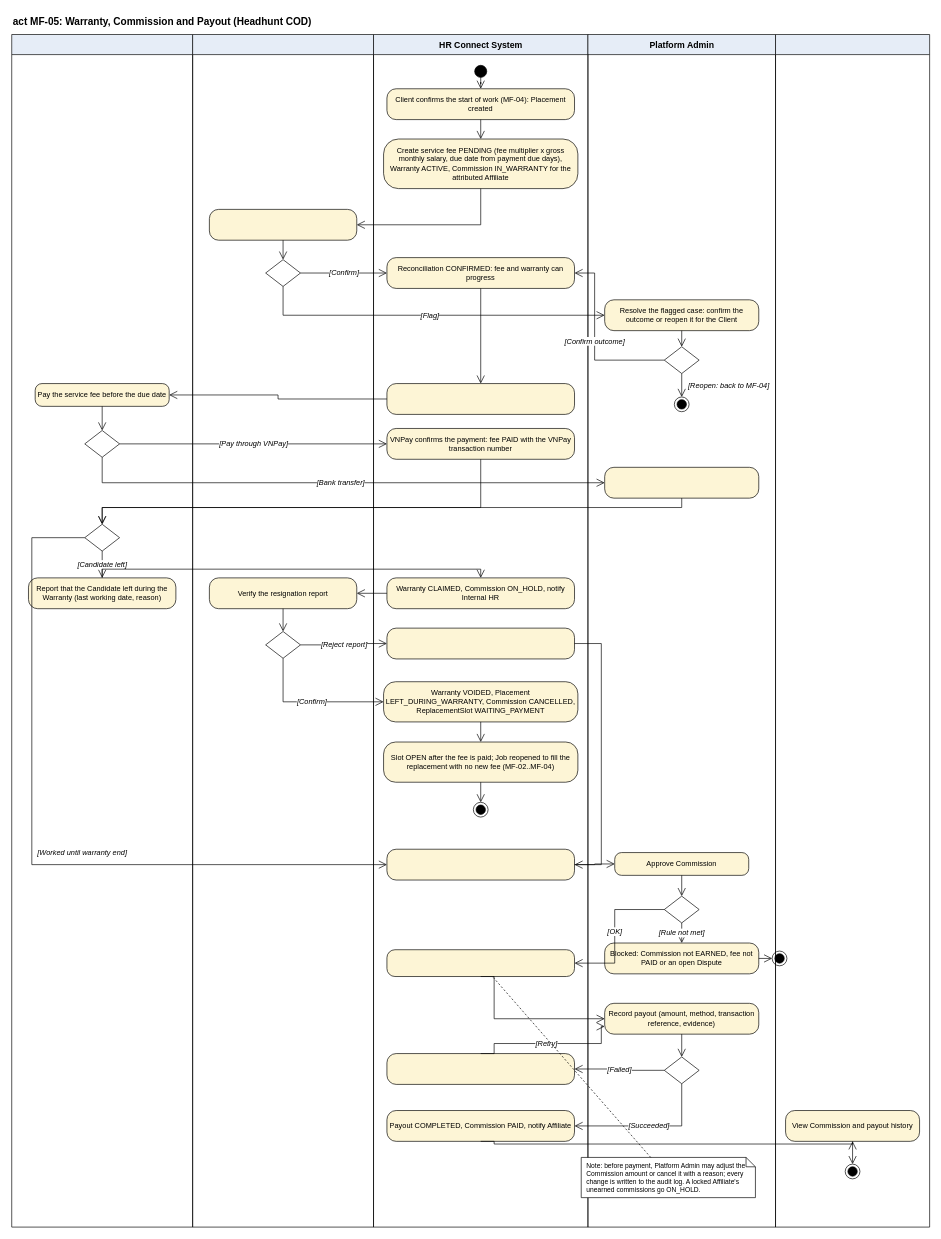
Image size: 941x1239. Some labels were removed from this diagram. Each missing label, with the box of its shape:
Affiliate: (775, 34, 930, 1227)
Check the bank statement and record the fee payment with reference (fee PAID): (604, 467, 759, 498)
Client Company User: (11, 34, 193, 1227)
Commission PAYABLE, notify Affiliate: (386, 949, 575, 977)
Internal HR: (192, 34, 374, 1227)
Payout FAILED; Commission stays PAYABLE for a new payout: (386, 1053, 575, 1084)
Reconcile the start-work outcome with the Client and the Candidate: (209, 209, 357, 240)
Warranty back to ACTIVE, Commission back to IN_WARRANTY: (386, 627, 575, 659)
Warranty end date reached: Warranty PASSED, Commission EARNED: (386, 849, 575, 880)
Worker: fee DUE near the due date (Client reminded), OVERDUE after it: (386, 383, 575, 414)
